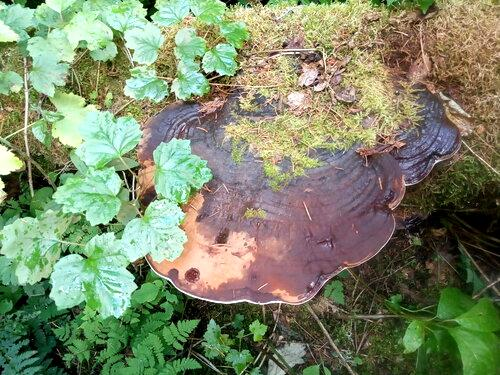Ganoderma - Fruit Body: (138, 71, 460, 303)
